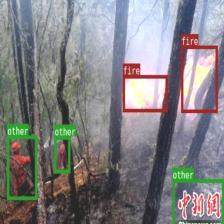fire: (181, 44, 217, 111), (122, 75, 167, 112)
